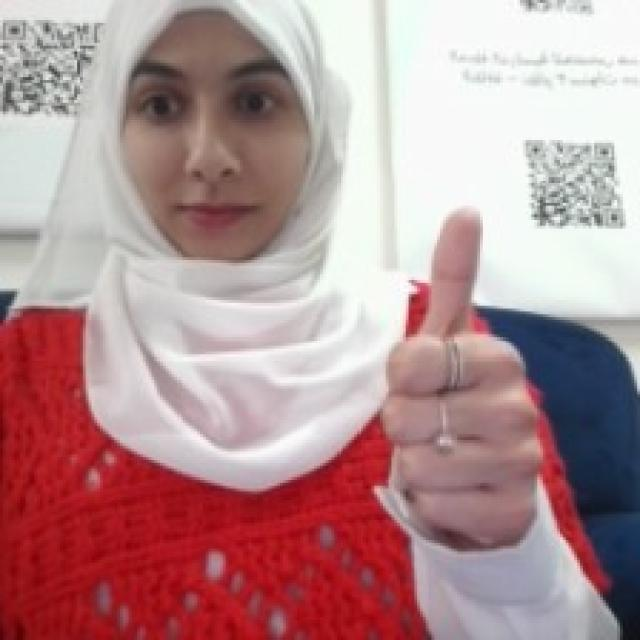fine: (376, 194, 547, 546)
